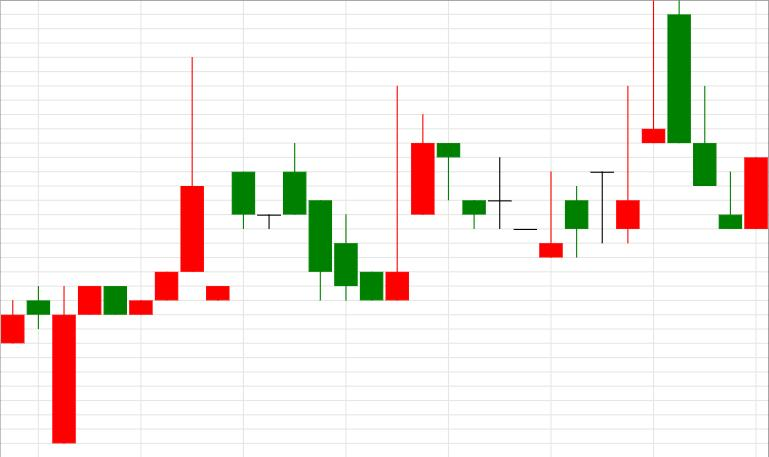inverse_hammer_rise: (232, 86, 409, 301)
